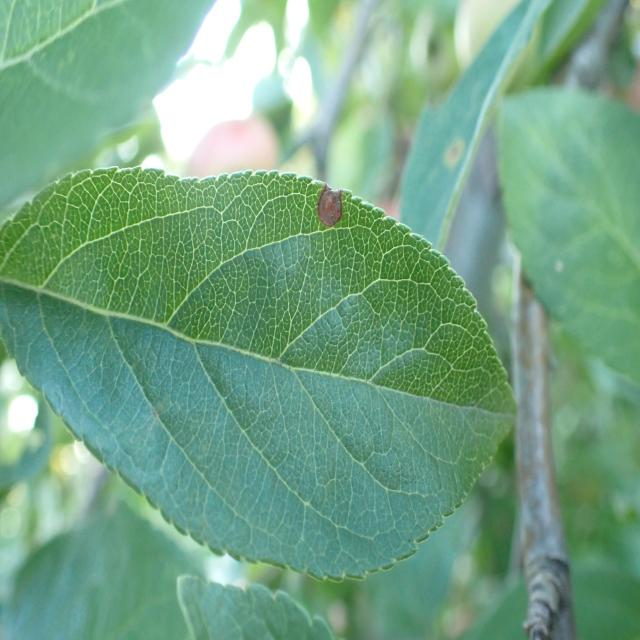frog-eye-leaf-spot: (1, 166, 520, 583)
